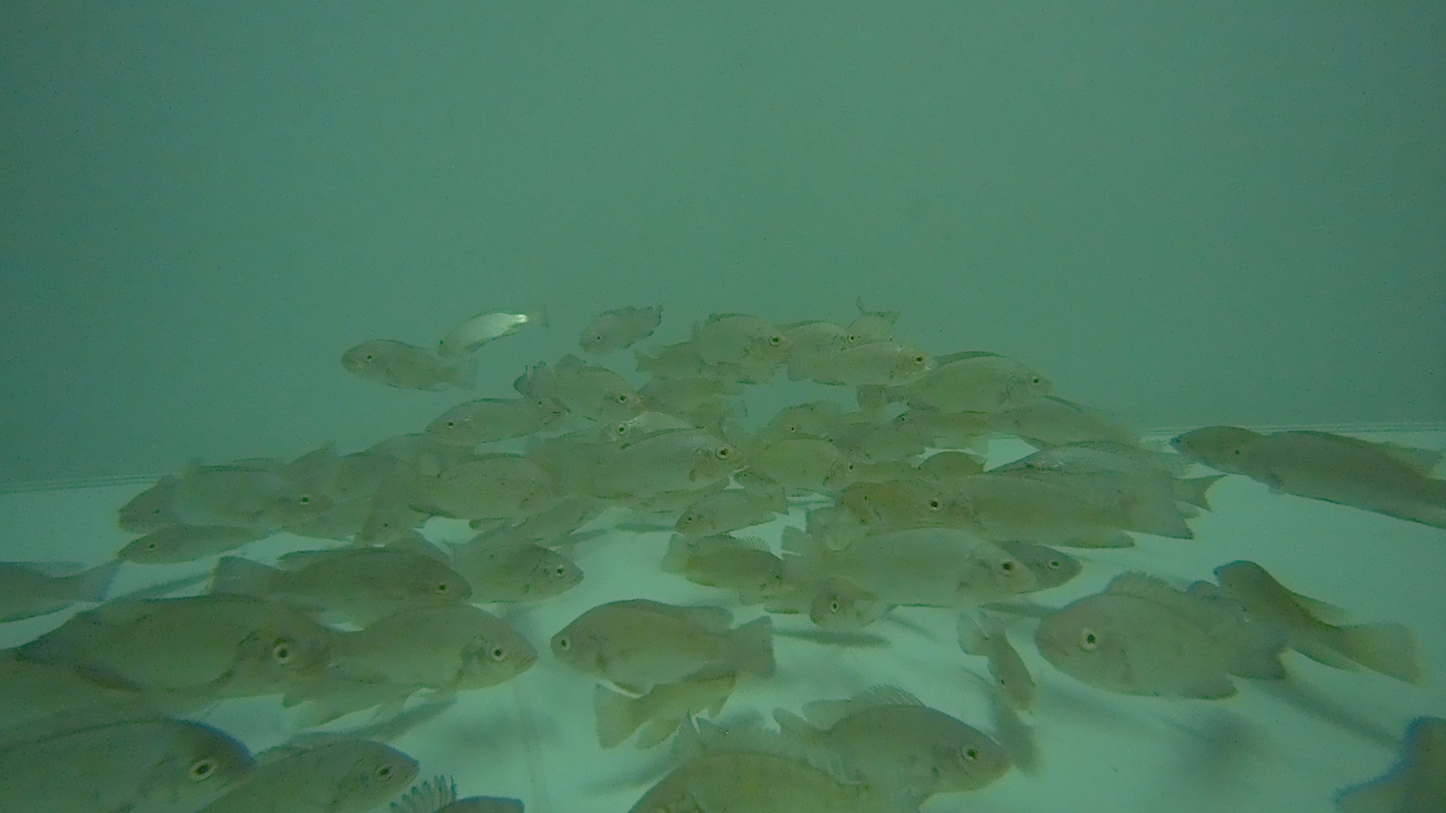fish: (780, 522, 1038, 606), (549, 433, 747, 494), (861, 353, 1057, 411), (784, 341, 935, 383)
